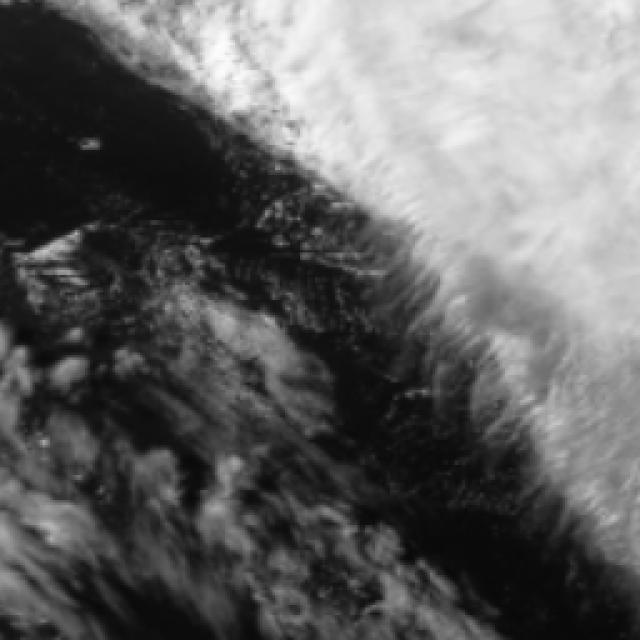CB: (407, 2, 640, 228)
